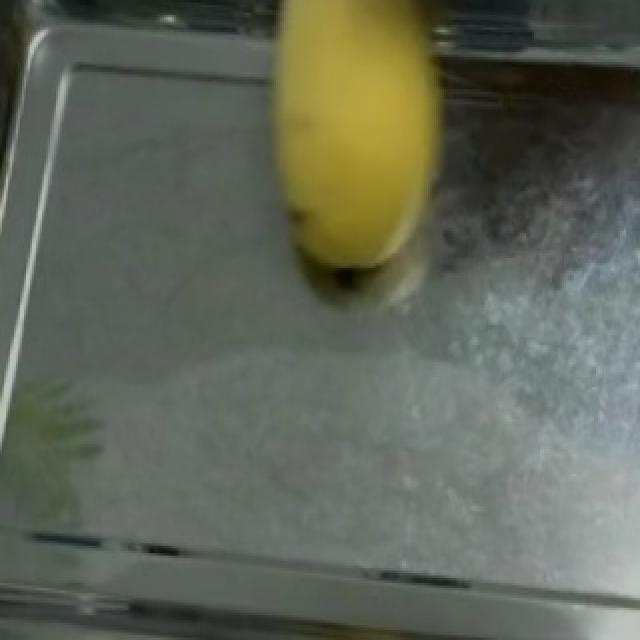fruit: (230, 0, 466, 293)
